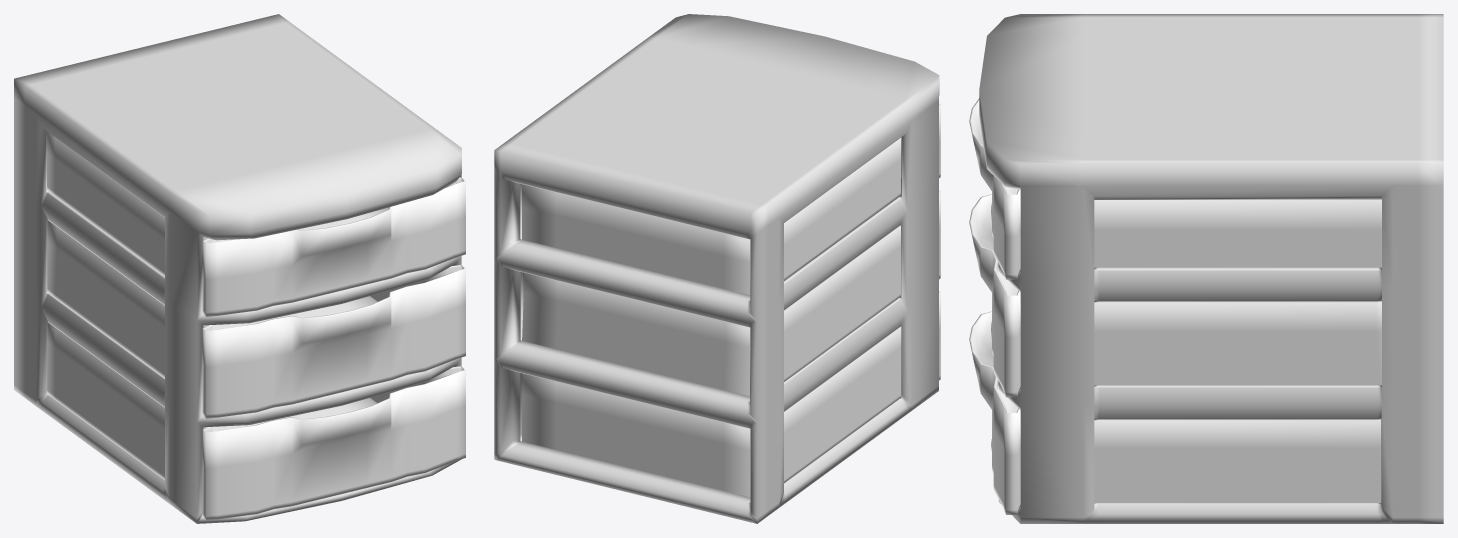
The model's file is organizer.glb.
3 renders of one model, left to right at view 1: azimuth 30°, elevation 25°; view 2: azimuth 150°, elevation 25°; view 3: azimuth 270°, elevation 25°, orthographic. The views are drawn at different scales.
Visible parts, largest first — view 1: Organizer_1, Drawers_0; view 2: Organizer_1, Drawers_0; view 3: Organizer_1, Drawers_0.
Part boxes in pixels (x1=…): Organizer_1: x1=14, y1=14, x2=461, y2=523; Drawers_0: x1=47, y1=131, x2=465, y2=520; Organizer_1: x1=494, y1=14, x2=939, y2=523; Drawers_0: x1=522, y1=103, x2=940, y2=497; Organizer_1: x1=979, y1=14, x2=1443, y2=523; Drawers_0: x1=969, y1=98, x2=1381, y2=514.
Bounding box in the file's own units: 2 × 2.25 × 2.68.
Materials: 2 (2 with a texture image).
